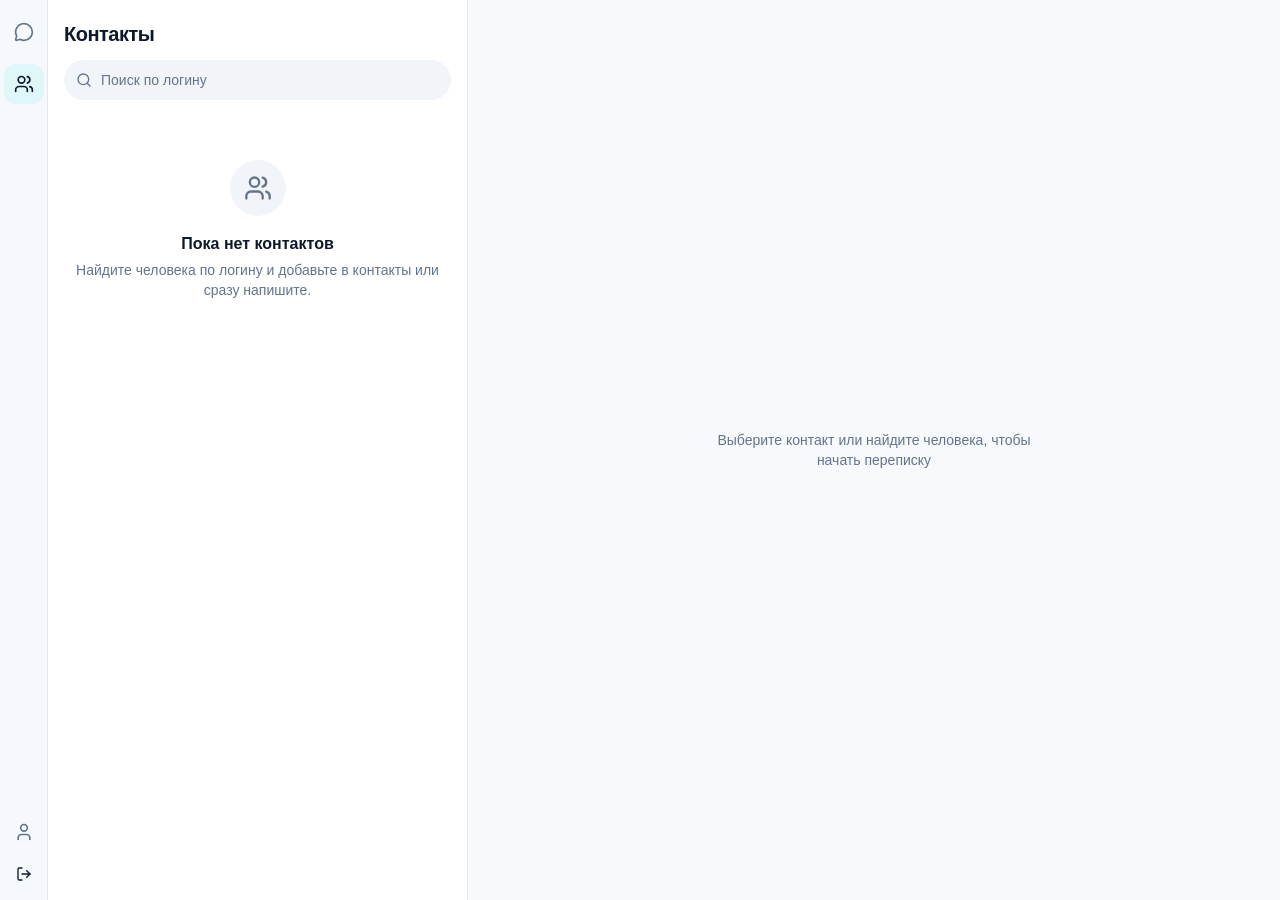
ContactsPage › shows list retry after add when refresh fails on empty contacts
Check: the text "Пока нет контактов" is shown, box [181,235,334,252]
Step 1. Type "char" into the search field → (258, 80), box [64,60,451,100]
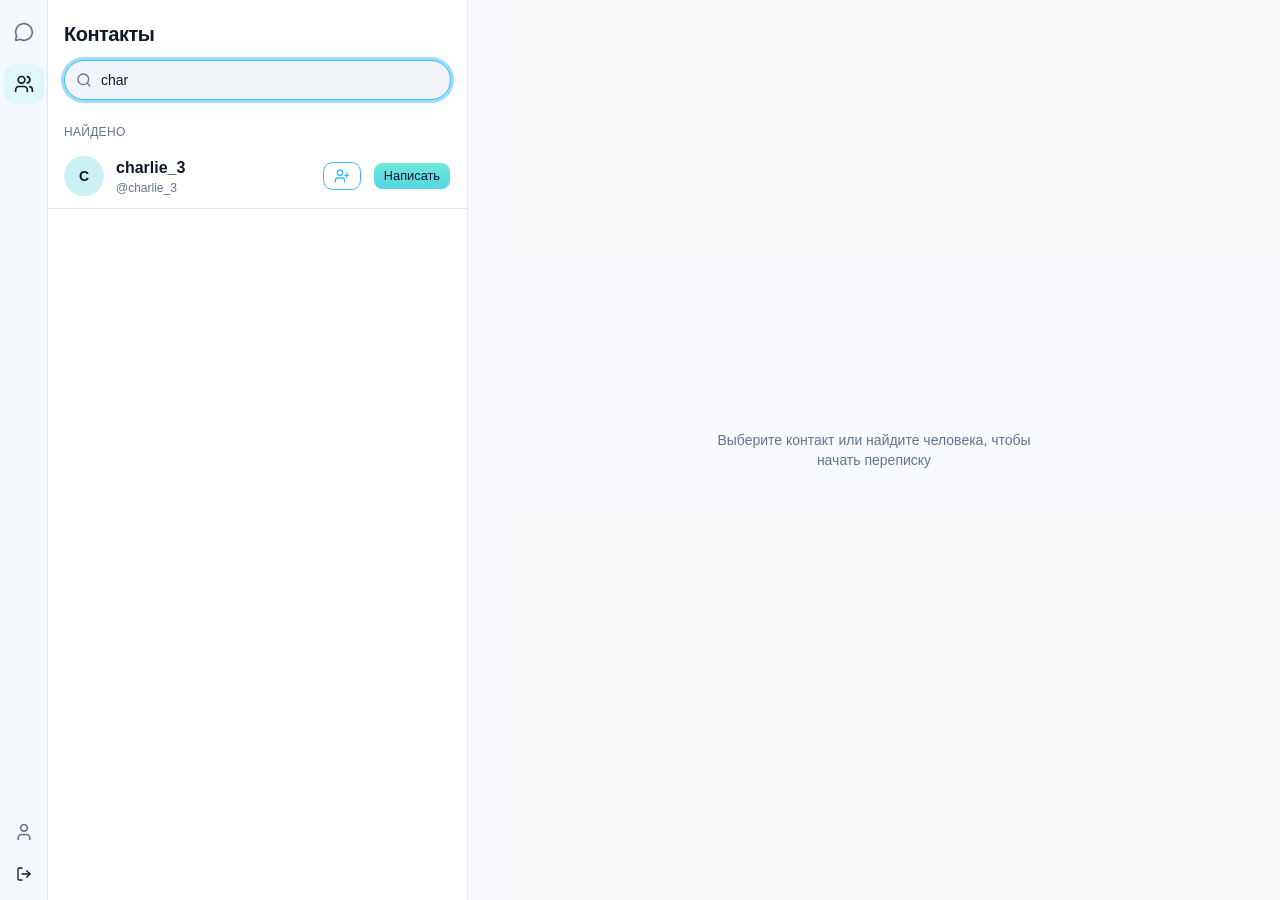
Check: the button named "Добавить charlie_3" is shown
Step 2. Click the button named "Добавить charlie_3" → (342, 176), box [323,162,361,190]
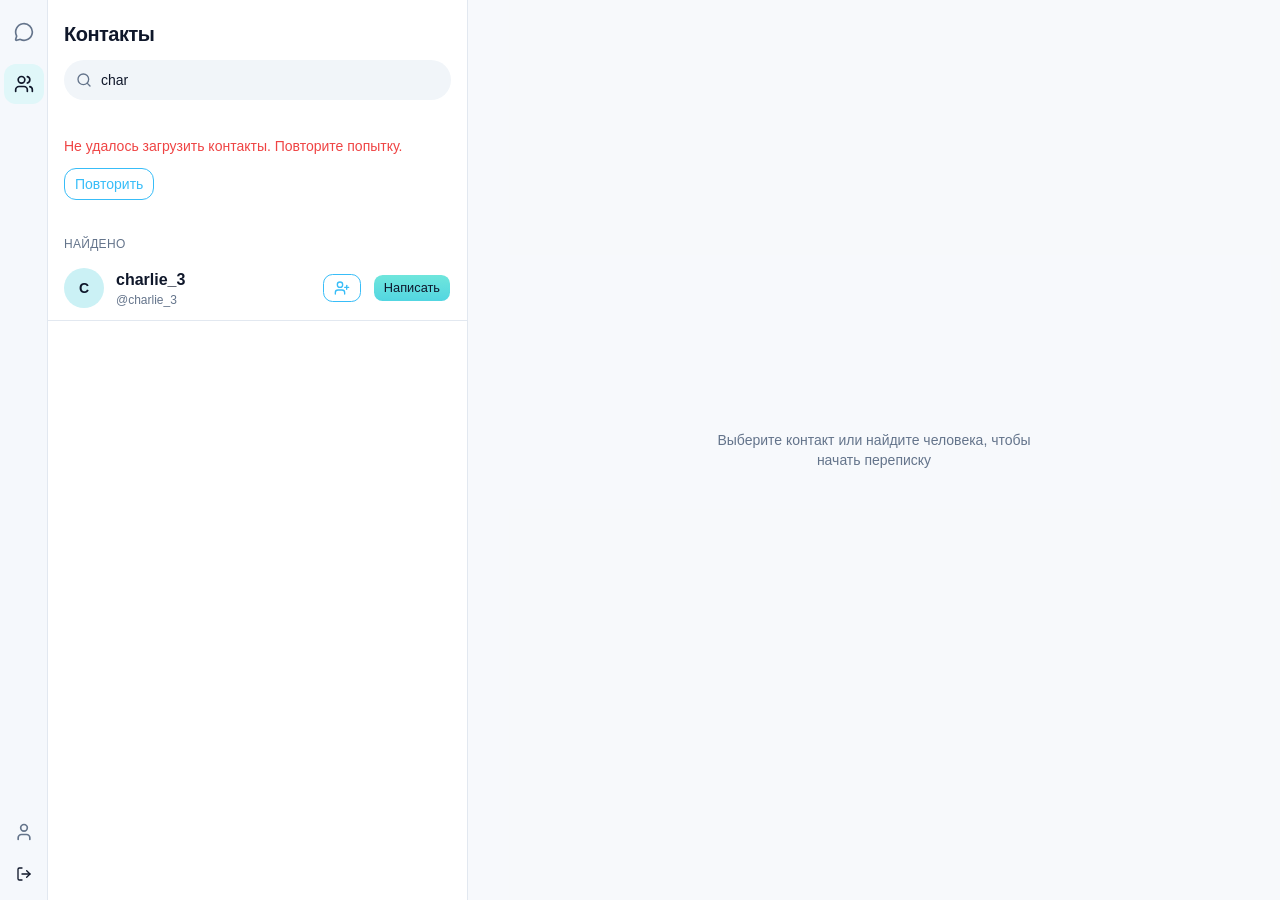
Check: the button named "Добавить charlie_3" is shown, box [323,274,361,302]
Check: the message shows "Не удалось загрузить контакты", box [64,138,402,154]
Check: the button "Повторить" is shown
Step 3. Click the button "Повторить" → (109, 184), box [64,168,154,200]
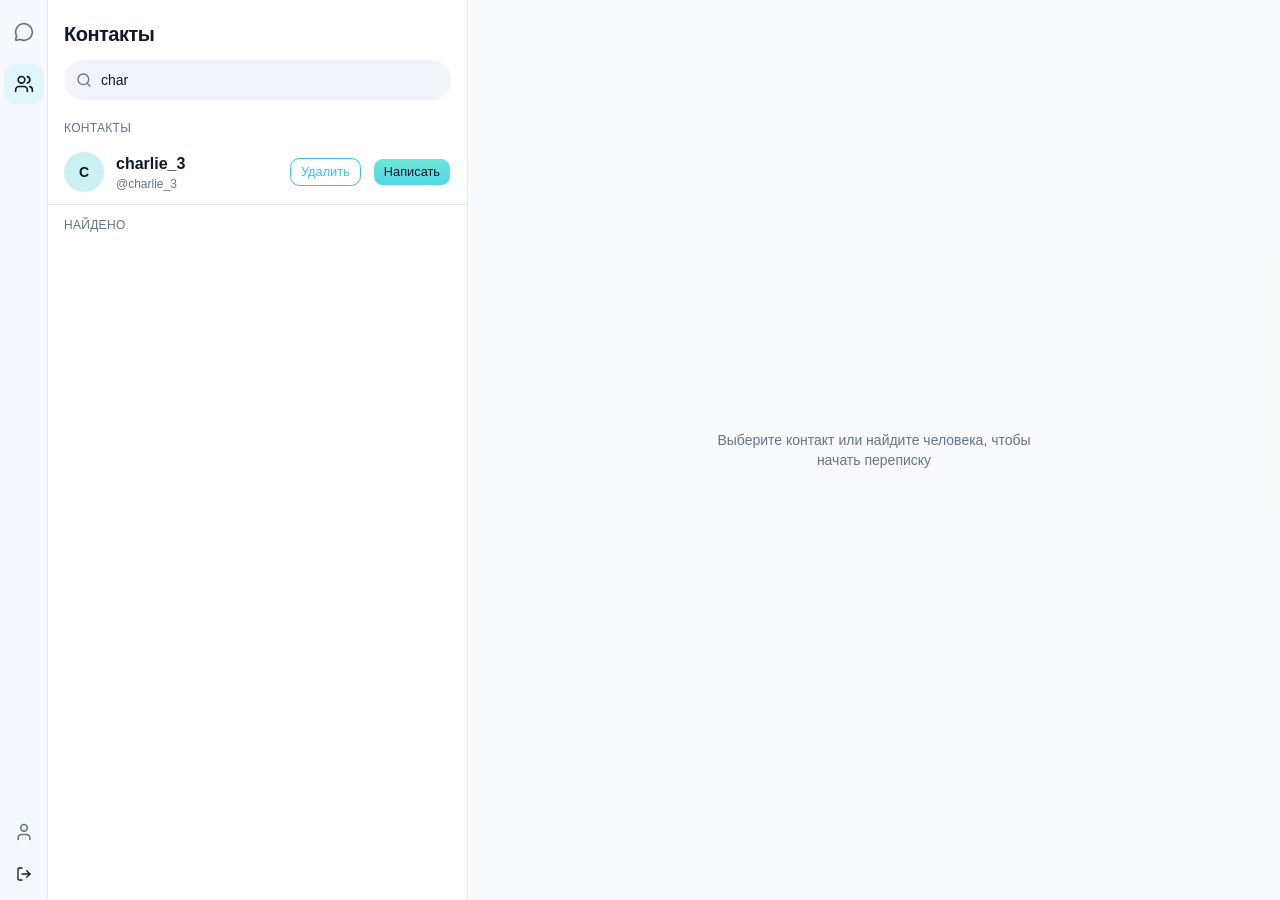
Check: the button with aria-label "Удалить charlie_3" is shown, box [290,158,361,186]
